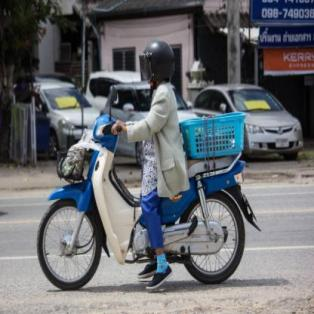Motocicleta: (33, 92, 257, 297)
